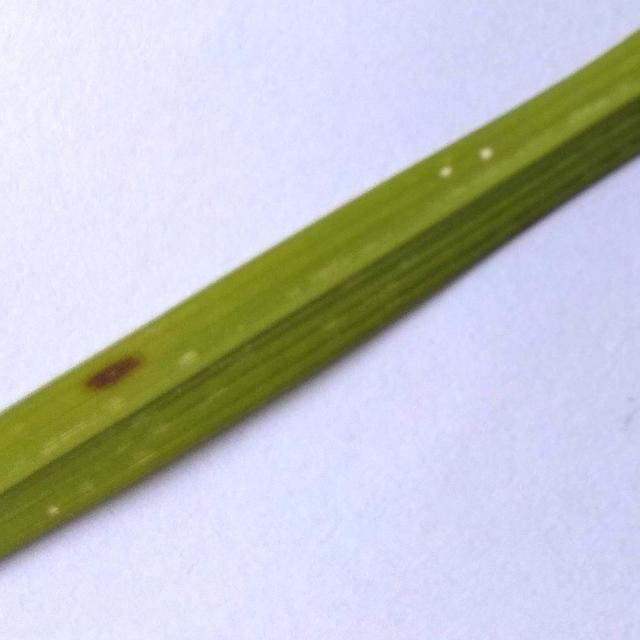Brown spot: (86, 354, 162, 399)
